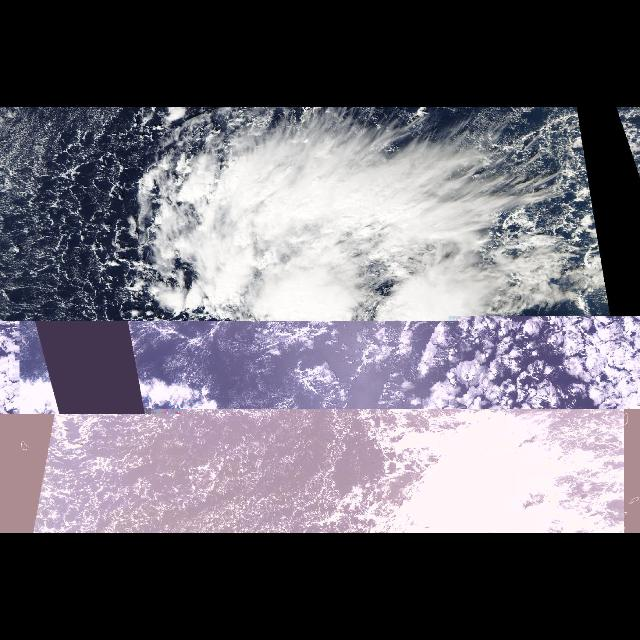Gravel: (1, 111, 180, 317)
